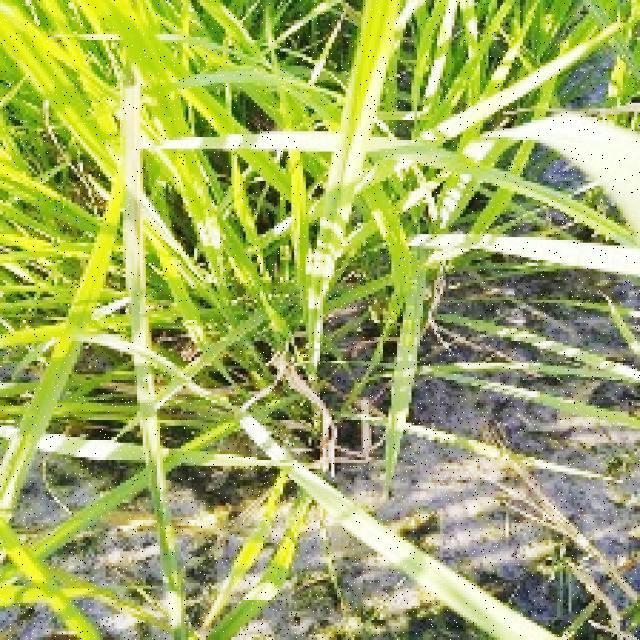health: (0, 0, 328, 411)
